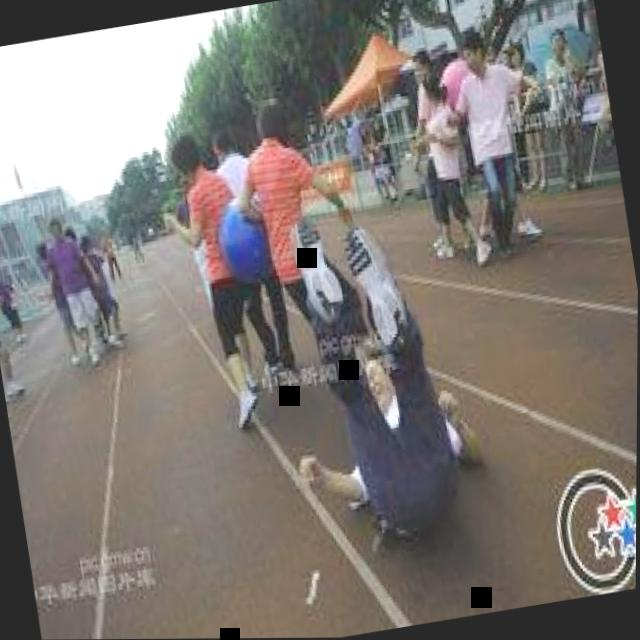Fall-Detected: (240, 183, 504, 555)
